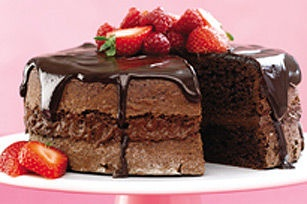background: (0, 1, 147, 56)
